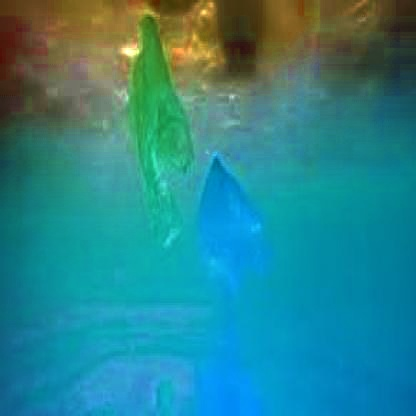pbag: (128, 15, 194, 262), (192, 154, 268, 300)
